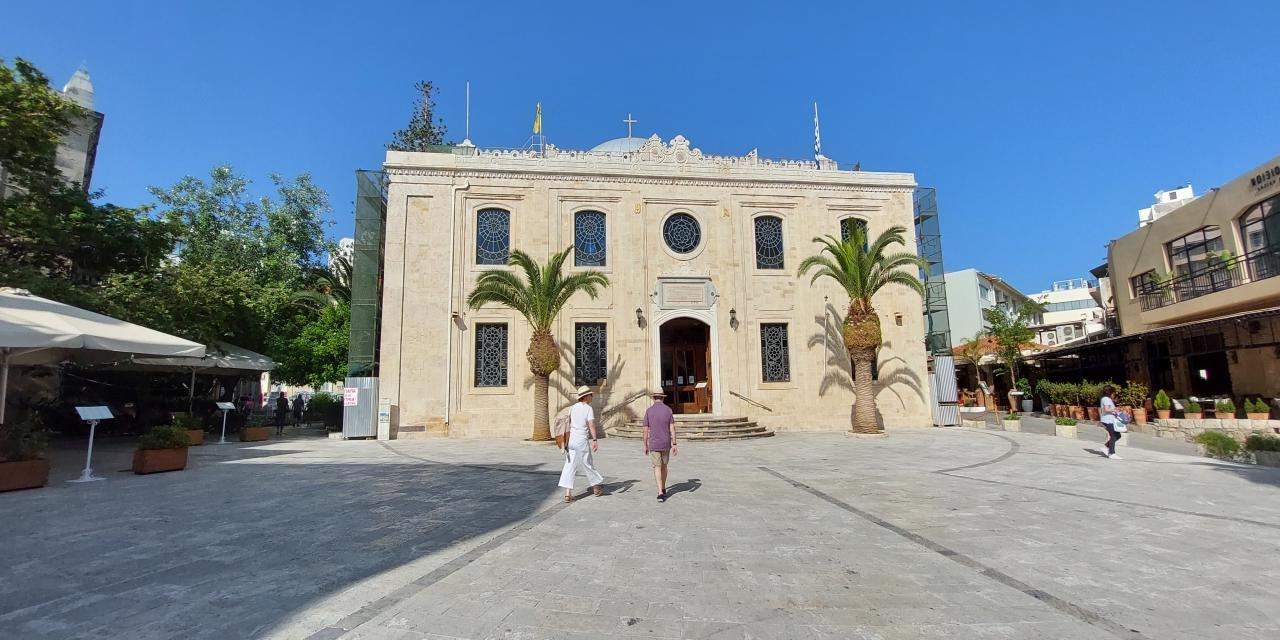Agios Titos: (391, 119, 920, 452)
